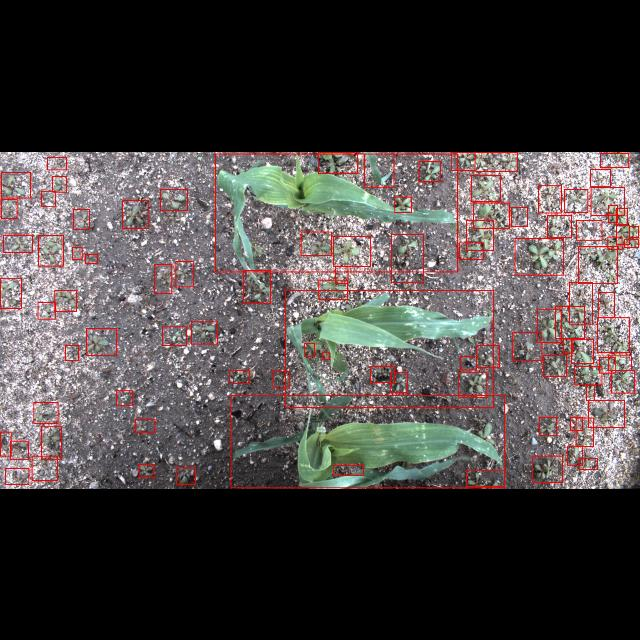crop: (215, 153, 458, 271), (231, 394, 505, 488), (285, 289, 493, 407), (364, 152, 394, 185), (333, 465, 363, 475)
weed: (514, 238, 564, 274), (392, 234, 424, 282), (578, 245, 618, 282), (334, 235, 371, 265), (598, 318, 630, 352), (588, 400, 624, 428), (590, 186, 624, 214), (473, 202, 509, 228), (570, 281, 592, 323), (556, 306, 584, 338), (512, 332, 542, 361), (243, 270, 270, 302), (466, 220, 494, 250), (537, 308, 561, 342), (318, 152, 358, 172), (38, 235, 64, 265), (87, 328, 117, 354), (532, 456, 562, 482), (475, 152, 517, 170), (472, 175, 501, 201), (122, 199, 148, 227), (301, 231, 331, 255), (41, 426, 61, 460), (2, 172, 30, 196), (538, 184, 562, 212), (459, 372, 487, 396), (1, 278, 22, 308), (32, 456, 58, 480), (160, 188, 188, 210), (466, 470, 504, 486), (318, 279, 348, 299), (564, 188, 588, 212), (191, 321, 217, 343), (547, 214, 571, 236), (611, 370, 635, 392), (571, 339, 593, 363), (576, 418, 594, 447), (576, 220, 602, 240), (476, 345, 499, 367), (4, 234, 32, 252), (34, 402, 58, 423), (154, 264, 172, 292), (574, 366, 602, 384), (544, 354, 566, 376), (163, 326, 187, 346), (175, 260, 192, 286), (55, 290, 77, 310), (418, 161, 439, 181), (458, 242, 484, 258), (452, 151, 474, 169), (601, 152, 629, 166), (598, 292, 614, 316), (371, 366, 395, 382), (10, 440, 28, 460), (590, 168, 610, 186), (390, 372, 408, 392), (6, 468, 28, 484), (608, 356, 632, 370), (272, 370, 290, 388), (1, 198, 17, 218), (73, 208, 89, 228), (177, 468, 196, 484), (511, 207, 527, 226), (38, 302, 56, 318), (540, 417, 556, 435), (135, 418, 155, 432), (616, 224, 630, 243), (116, 390, 132, 406), (599, 356, 615, 372), (395, 196, 411, 212), (568, 446, 582, 464), (47, 157, 67, 169), (1, 432, 11, 456), (230, 370, 250, 382), (52, 175, 66, 191), (42, 190, 56, 206), (65, 344, 79, 360), (138, 464, 154, 478), (460, 356, 476, 370), (336, 266, 348, 282), (616, 207, 628, 223), (579, 458, 597, 468), (608, 204, 618, 222), (571, 417, 583, 431), (608, 236, 622, 248), (305, 342, 315, 356), (563, 338, 573, 352), (586, 384, 594, 400), (72, 247, 82, 259), (84, 254, 98, 262), (624, 239, 638, 247), (629, 226, 639, 237), (322, 352, 330, 358)
